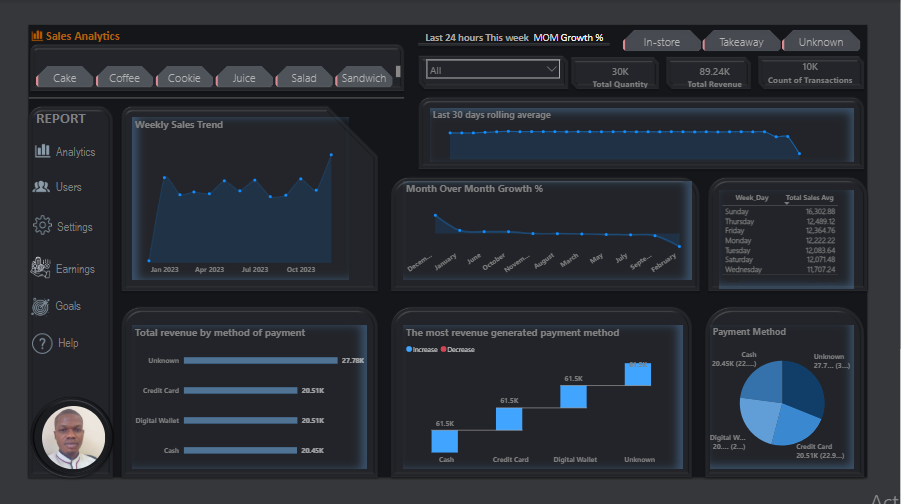

The dashboard page shown, as its layout file describes it:
{"tool":"powerbi","page":{"name":"Sales Analytics","canvas":[1600,900],"ordinal":0},"visuals":[{"type":"barChart","title":"Total revenue by method of payment","fields":{"Category":["public cafe_sales_stagecopy.payment_method"],"Y":["Sum(public cafe_sales_stagecopy.total_spent)"]},"box":[240,576,416,256],"z":0},{"type":"waterfallChart","title":"The most revenue generated payment method","fields":{"Category":["public cafe_sales_stagecopy.payment_method"],"Y":["Sum(-- Which payment method generates the most revenue.revenue)"]},"box":[720,576,496,256],"z":1000},{"type":"lineChart","title":"Weekly Sales Trend","fields":{"Category":["Weekly Sales trend.weekly_sales.Variation.Date Hierarchy.Year","Weekly Sales trend.weekly_sales.Variation.Date Hierarchy.Quarter","Weekly Sales trend.weekly_sales.Variation.Date Hierarchy.Month","Weekly Sales trend.weekly_sales.Variation.Date Hierarchy.Day"],"Y":["Sum(Weekly Sales trend.total_sales)"]},"box":[240,208,384,288],"z":2000},{"type":"tableEx","title":"Average Sales by DayOfWeek","fields":{"Values":["Day with the highest transaction.day_of_week","Avg(Day with the highest transaction.total_sales)"]},"box":[1280,336,240,176],"z":3000},{"type":"lineChart","title":"Month Over Month Growth %","fields":{"Category":["month over month growth percentage.month"],"Y":["Median(month over month growth percentage.monthly_rev_growth)"]},"box":[720,320,512,176],"z":4000},{"type":"cardVisual","fields":{"Data":["CountNonNull(public cafe_sales_stagecopy.transaction_id)"]},"box":[1344,80,192,96],"z":5000},{"type":"advancedSlicerVisual","fields":{"Values":["public cafe_sales_stagecopy.item"]},"box":[64,112,656,48],"z":6000},{"type":"cardVisual","fields":{"Data":["public cafe_sales_stagecopy.Total Revenue"]},"box":[1200,96,144,80],"z":7000},{"type":"cardVisual","fields":{"Data":["-- Which payment method generates the most revenue.Total Quantity"]},"box":[1024,96,160,80],"z":8000},{"type":"advancedSlicerVisual","fields":{"Values":["public cafe_sales_stagecopy.location"]},"box":[1104,48,432,48],"z":9000},{"type":"slicer","fields":{"Values":["Day with the highest transaction.day_of_week"]},"box":[752,96,256,48],"z":10000},{"type":"pieChart","title":"Payment Method ","fields":{"Category":["public cafe_sales_stagecopy.payment_method"],"Y":["Sum(public cafe_sales_stagecopy.total_spent)"]},"box":[1264,576,256,256],"z":11000},{"type":"lineChart","title":"Last 30 days rolling average","fields":{"Category":["rolling Average for the last 30 DAYS.sales_date.Variation.Date Hierarchy.Year","rolling Average for the last 30 DAYS.sales_date.Variation.Date Hierarchy.Quarter","rolling Average for the last 30 DAYS.sales_date.Variation.Date Hierarchy.Month","rolling Average for the last 30 DAYS.sales_date.Variation.Date Hierarchy.Day"],"Y":["Sum(rolling Average for the last 30 DAYS.moving_avg_30d)"]},"box":[768,192,752,96],"z":12000},{"type":"image","box":[80,720,112,112],"z":13001}]}

Visuals, with their boxes on the page's 1600x900 design canvas (x1, y1, x2, y2). These are canvas units, not pixel positions in the 901x504 screenshot, which may show the page scaled, cropped or inside an application window:
"Total revenue by method of payment" barChart: <region>240, 576, 656, 832</region>
"The most revenue generated payment method" waterfallChart: <region>720, 576, 1216, 832</region>
"Weekly Sales Trend" lineChart: <region>240, 208, 624, 496</region>
"Average Sales by DayOfWeek" tableEx: <region>1280, 336, 1520, 512</region>
"Month Over Month Growth %" lineChart: <region>720, 320, 1232, 496</region>
cardVisual - CountNonNull(public cafe_sales_stagecopy.transaction_id): <region>1344, 80, 1536, 176</region>
advancedSlicerVisual - public cafe_sales_stagecopy.item: <region>64, 112, 720, 160</region>
cardVisual - public cafe_sales_stagecopy.Total Revenue: <region>1200, 96, 1344, 176</region>
cardVisual - -- Which payment method generates the most revenue.Total Quantity: <region>1024, 96, 1184, 176</region>
advancedSlicerVisual - public cafe_sales_stagecopy.location: <region>1104, 48, 1536, 96</region>
slicer - Day with the highest transaction.day_of_week: <region>752, 96, 1008, 144</region>
"Payment Method " pieChart: <region>1264, 576, 1520, 832</region>
"Last 30 days rolling average" lineChart: <region>768, 192, 1520, 288</region>
image: <region>80, 720, 192, 832</region>
